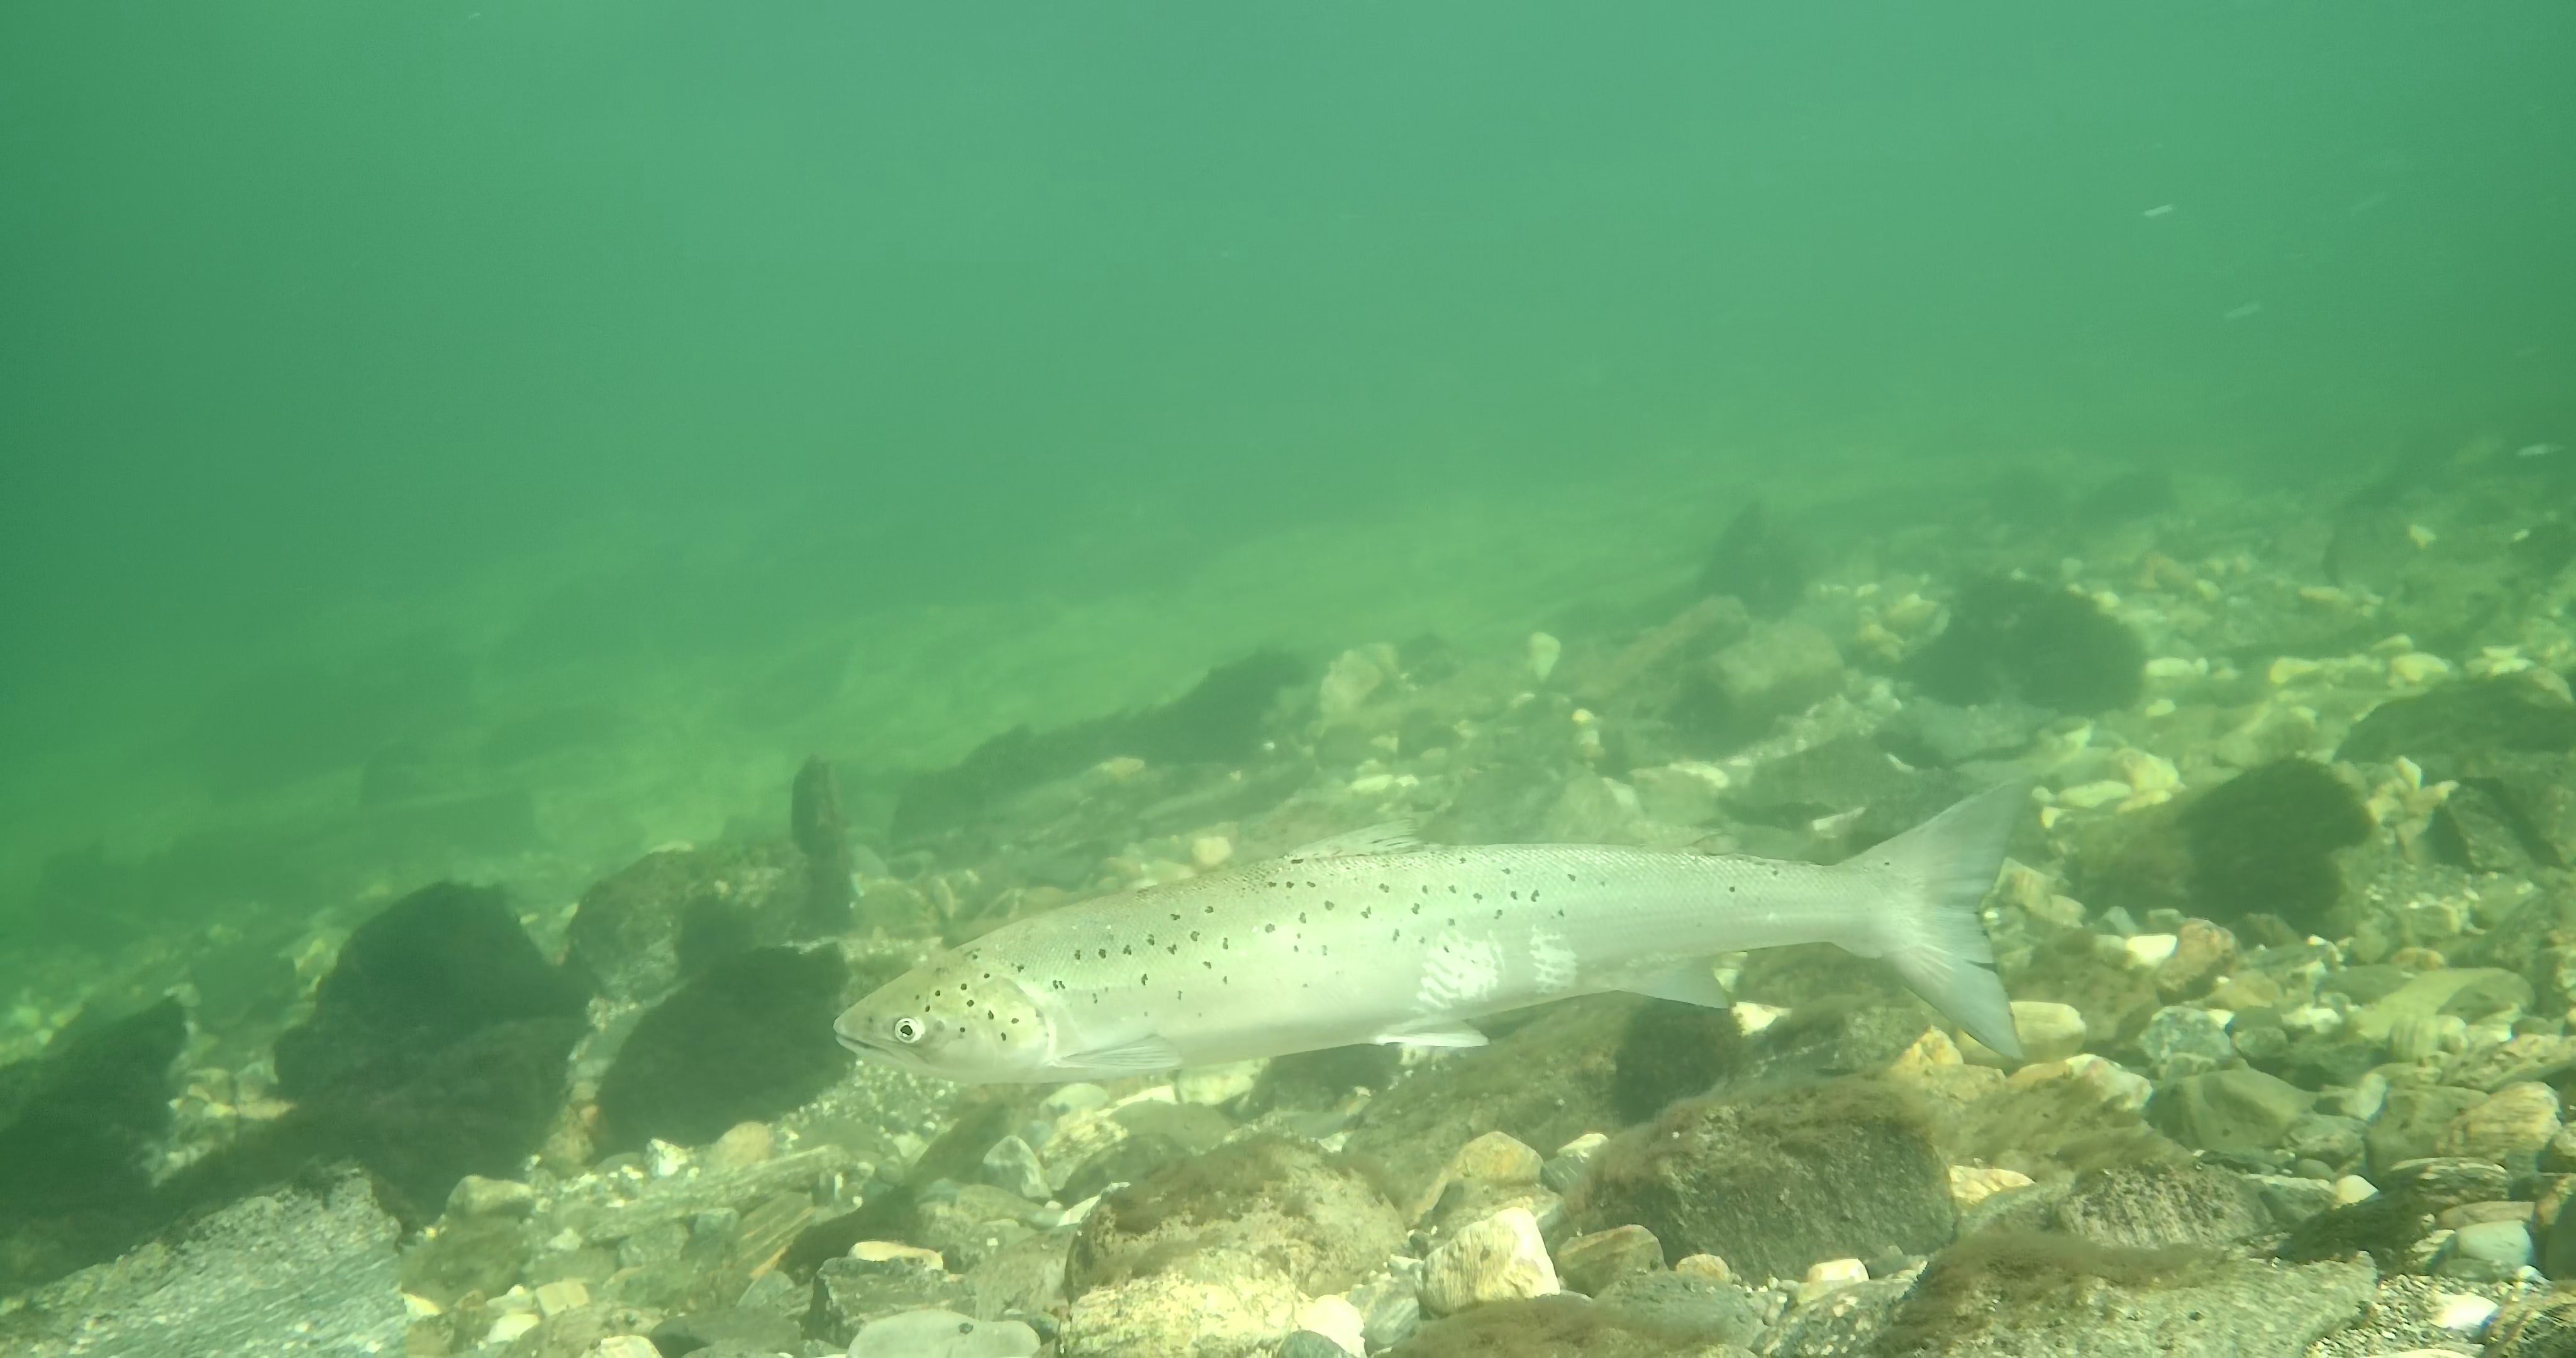salmon: (826, 770, 2036, 1089)
